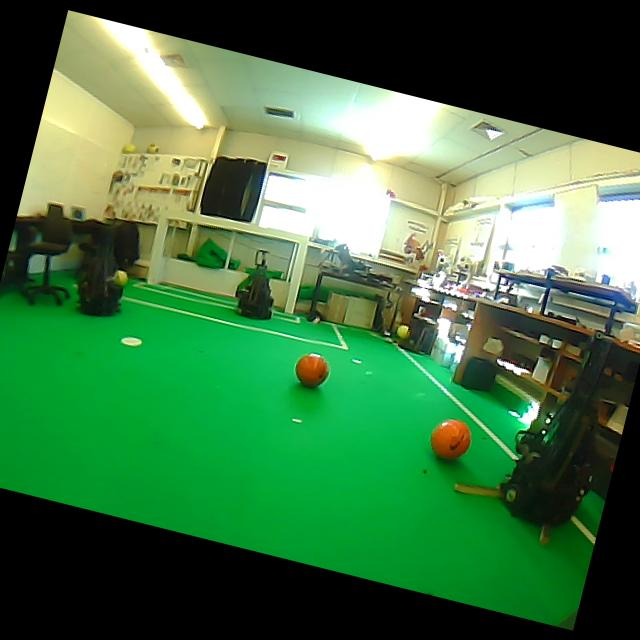ball: (430, 418, 470, 459), (295, 352, 329, 387), (112, 269, 128, 286), (396, 324, 410, 339), (146, 143, 158, 153), (122, 144, 135, 153)
goal: (283, 236, 308, 313), (146, 216, 169, 283)
robot: (500, 337, 611, 525), (77, 222, 123, 316), (236, 249, 272, 319)
